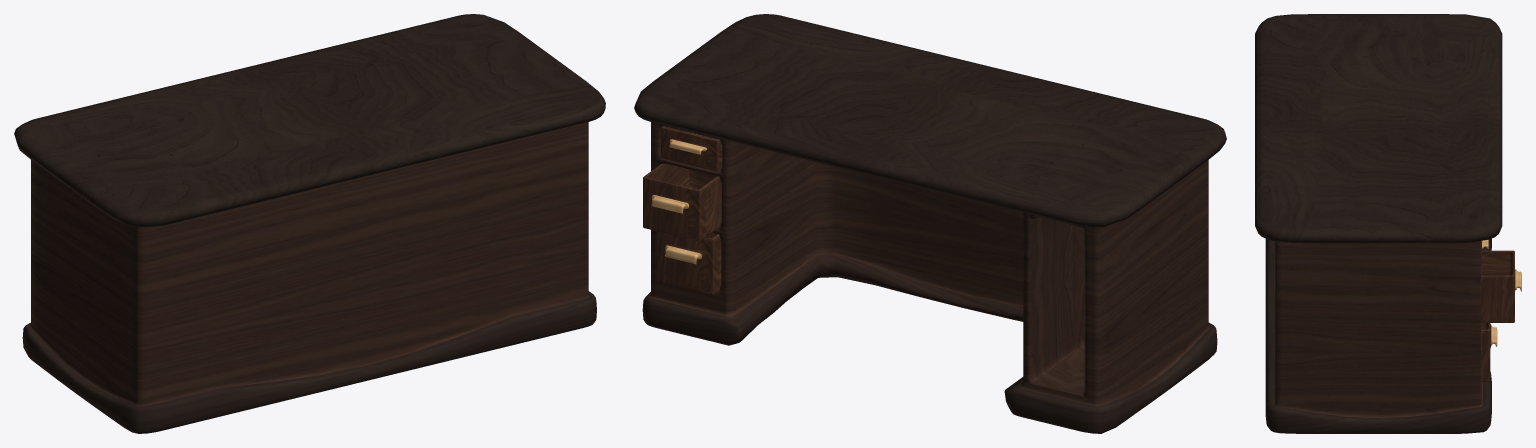
The model's file is Robbers_T3ANI210_TellerDesk_Abdilla.fbx.
3 views of the same model, side by side, from view 1: azimuth 30°, elevation 25°; view 2: azimuth 150°, elevation 25°; view 3: azimuth 270°, elevation 25° (orthographic). The views are drawn at different scales.
Parts seen in each view (by area): view 1: TellerDesk; view 2: TellerDesk, DeskDraw_2, DeskDraw_1, DeskDraw_3; view 3: TellerDesk, DeskDraw_2, DeskDraw_1.
Part boxes in pixels (x1=…): TellerDesk: x1=14, y1=14, x2=605, y2=433; TellerDesk: x1=634, y1=14, x2=1226, y2=433; DeskDraw_2: x1=643, y1=163, x2=721, y2=241; DeskDraw_1: x1=656, y1=231, x2=721, y2=294; DeskDraw_3: x1=661, y1=126, x2=722, y2=171; TellerDesk: x1=1255, y1=14, x2=1502, y2=433; DeskDraw_2: x1=1481, y1=250, x2=1521, y2=322; DeskDraw_1: x1=1481, y1=323, x2=1497, y2=381.
Size of the model in its own units: 967 by 420 by 491.
3 materials, 3 textured.
